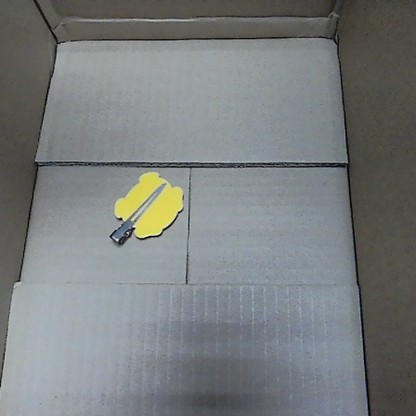dogclip: (108, 168, 185, 248)
